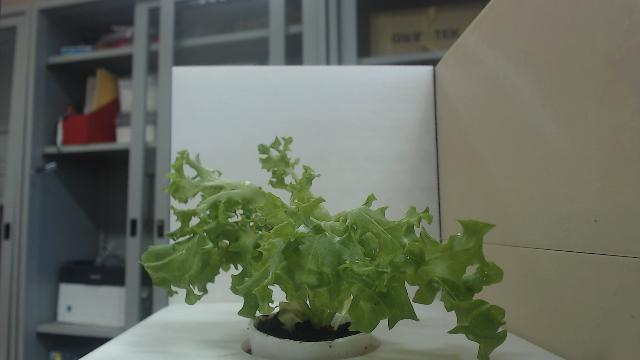Harvest Stage: (141, 132, 511, 360)
